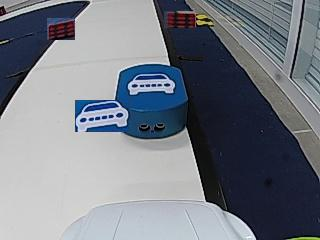safety: (127, 73, 177, 95)
